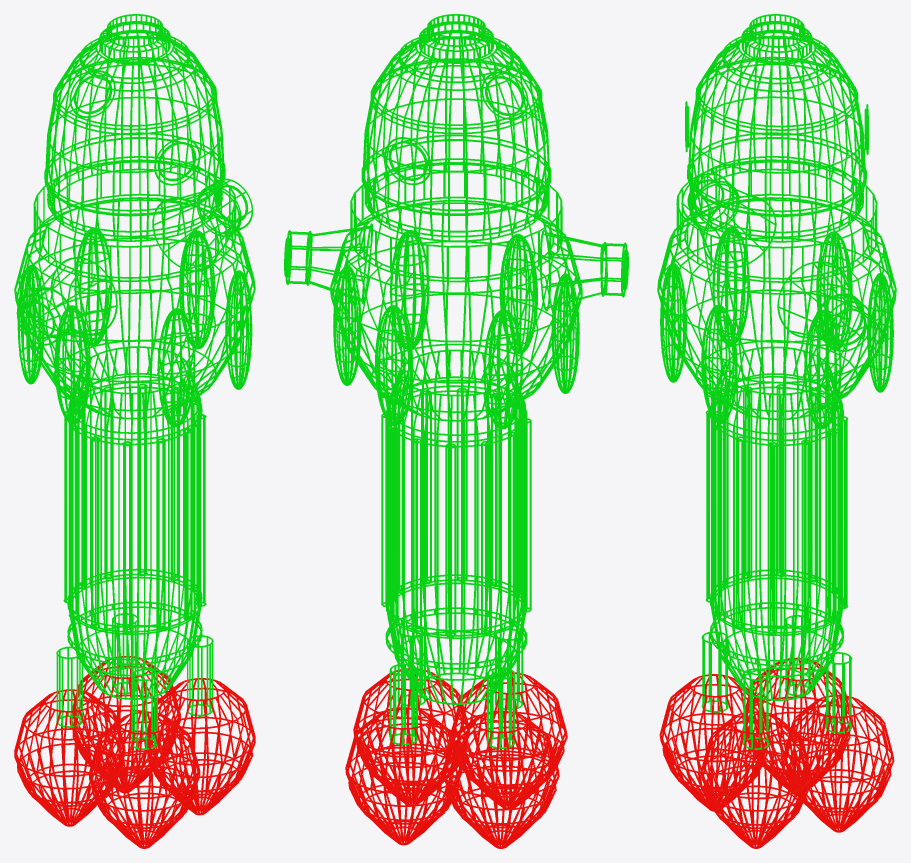
The model's file is mk2-mine-highlight-drill-assemblies.glb.
3 views of the same model, side by side, from view 1: azimuth 30°, elevation 25°; view 2: azimuth 150°, elevation 25°; view 3: azimuth 270°, elevation 25° (orthographic).
Parts seen in each view (by area): view 1: chassis technical wire, drill-assemblies technical wire, slurry-recovery-ports technical wire, coolant-connectors technical wire; view 2: chassis technical wire, drill-assemblies technical wire, slurry-recovery-ports technical wire, coolant-connectors technical wire; view 3: chassis technical wire, drill-assemblies technical wire, slurry-recovery-ports technical wire.
Boxes of the visible parts, x1,y1,x2,y2 form: chassis technical wire: (14,14,255,749); drill-assemblies technical wire: (14,656,255,848); slurry-recovery-ports technical wire: (16,178,253,345); coolant-connectors technical wire: (69,70,200,185); chassis technical wire: (330,14,582,748); drill-assemblies technical wire: (345,668,567,848); slurry-recovery-ports technical wire: (284,223,628,311); coolant-connectors technical wire: (384,71,528,185); chassis technical wire: (657,14,896,749); drill-assemblies technical wire: (659,657,894,848); slurry-recovery-ports technical wire: (681,173,872,351).
Size of the model in its own units: 1.72 by 4.62 by 1.26.
